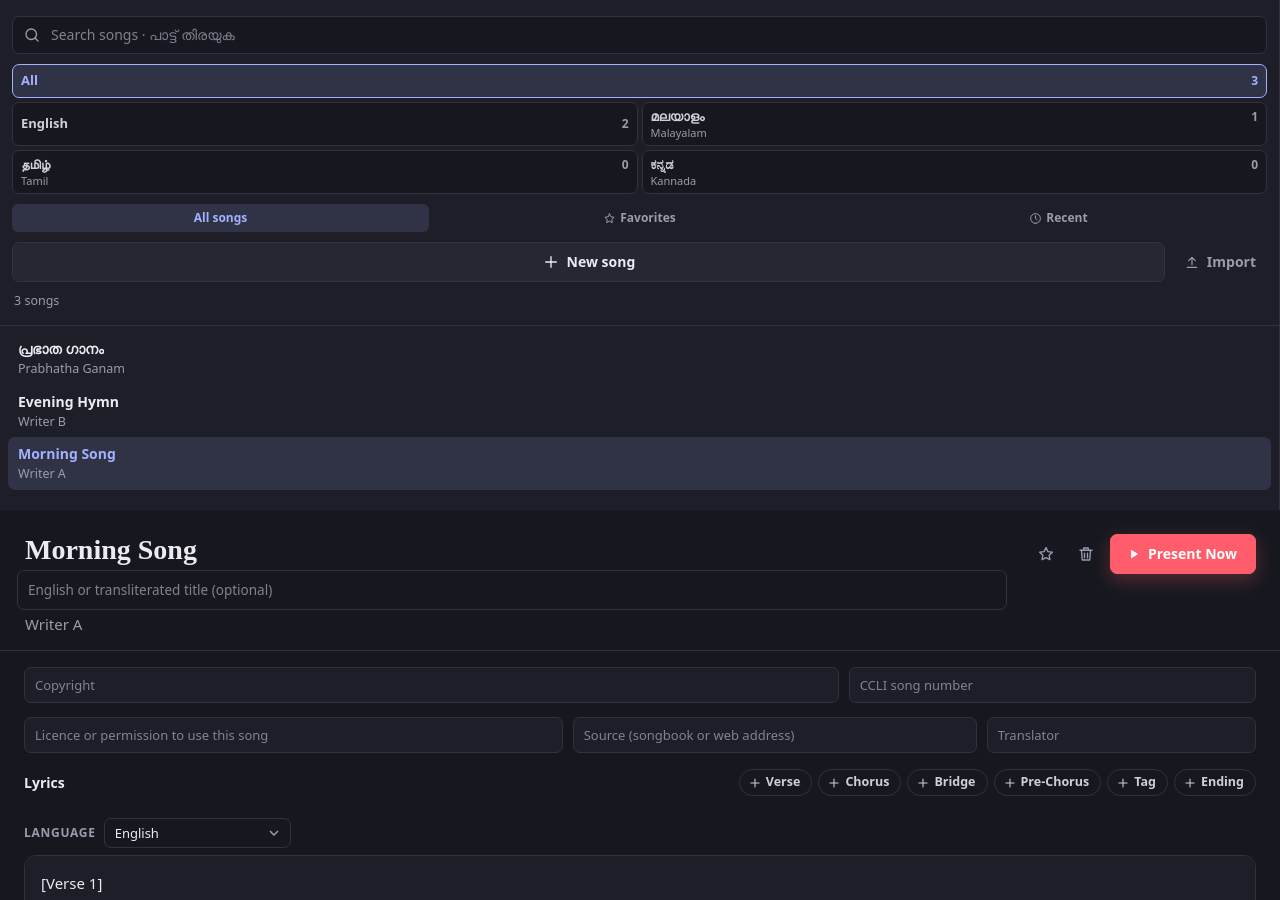
Test: Songs: finding a song › opens the first match with Enter
The width and height of the screenshot is (1280, 900).
Type "evening hymn" into the field labelled "Search songs" at (656, 35), box [49,19,1262,51]
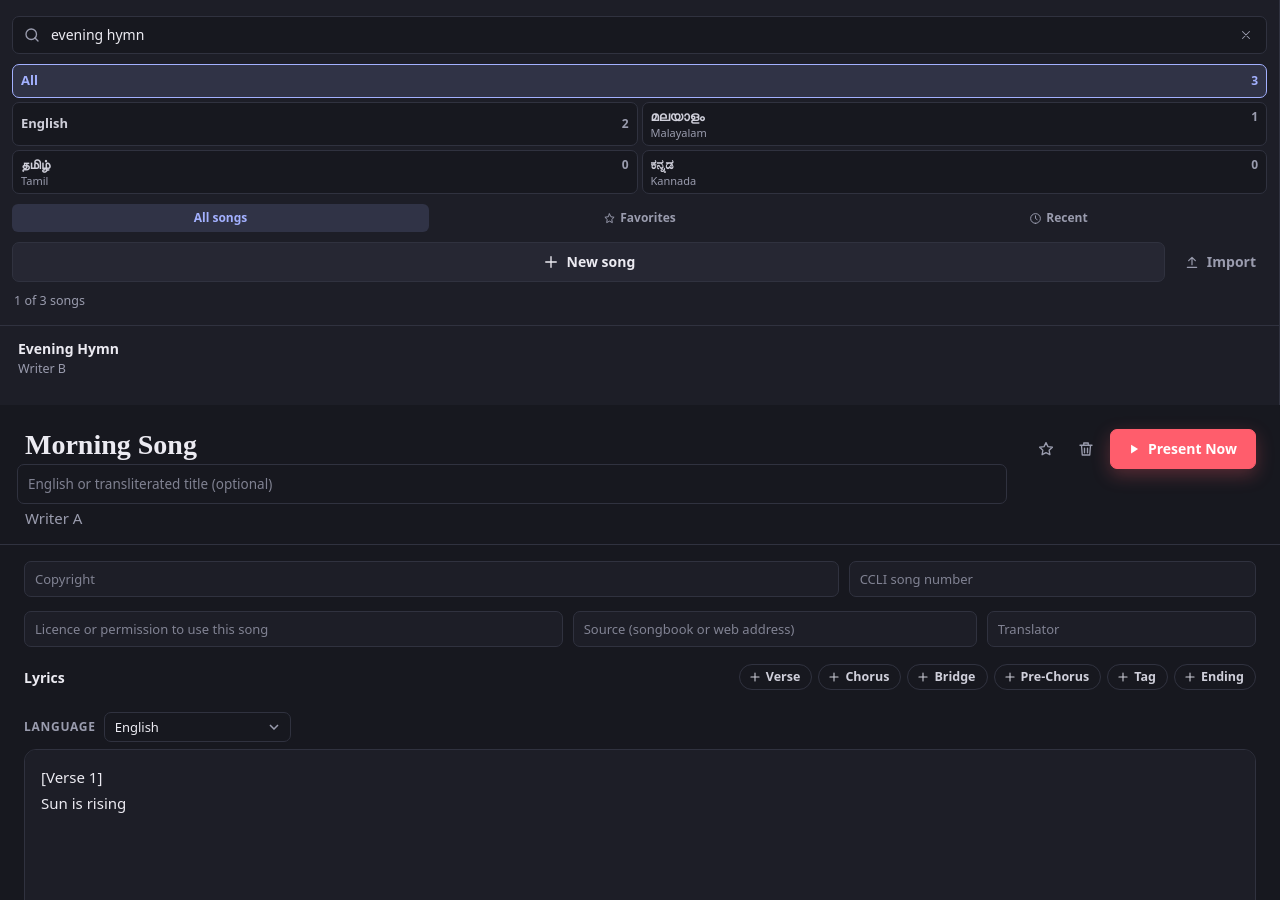
Press Enter in the field named "Search songs", box [49,19,1222,51]
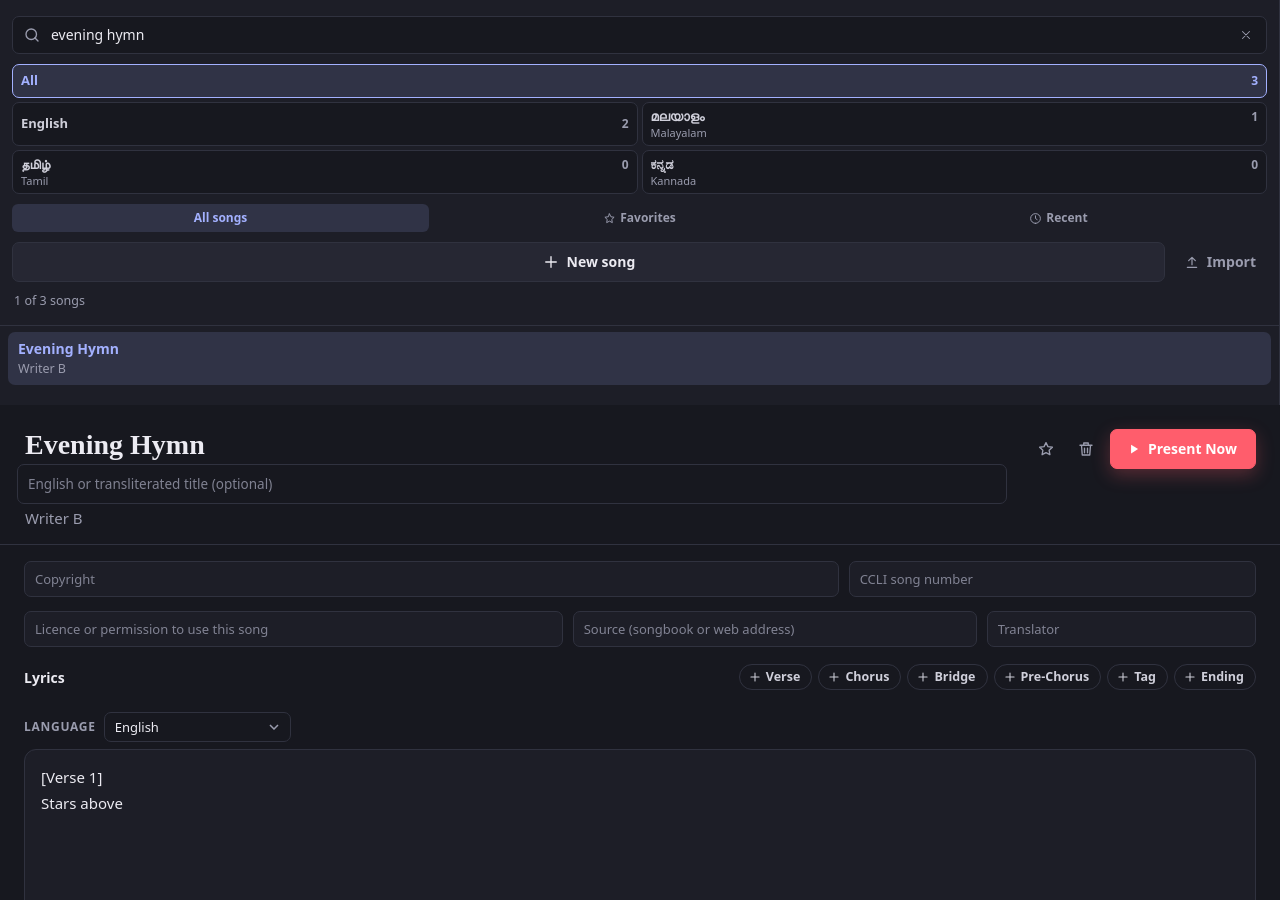
Expected: the field named "Song title" holds "Evening Hymn", [14,424,1004,464]
